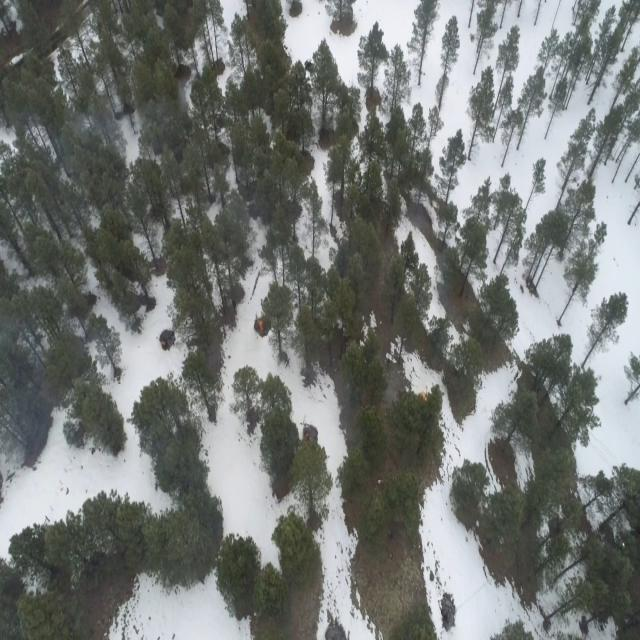Fire: (250, 300, 272, 340)
